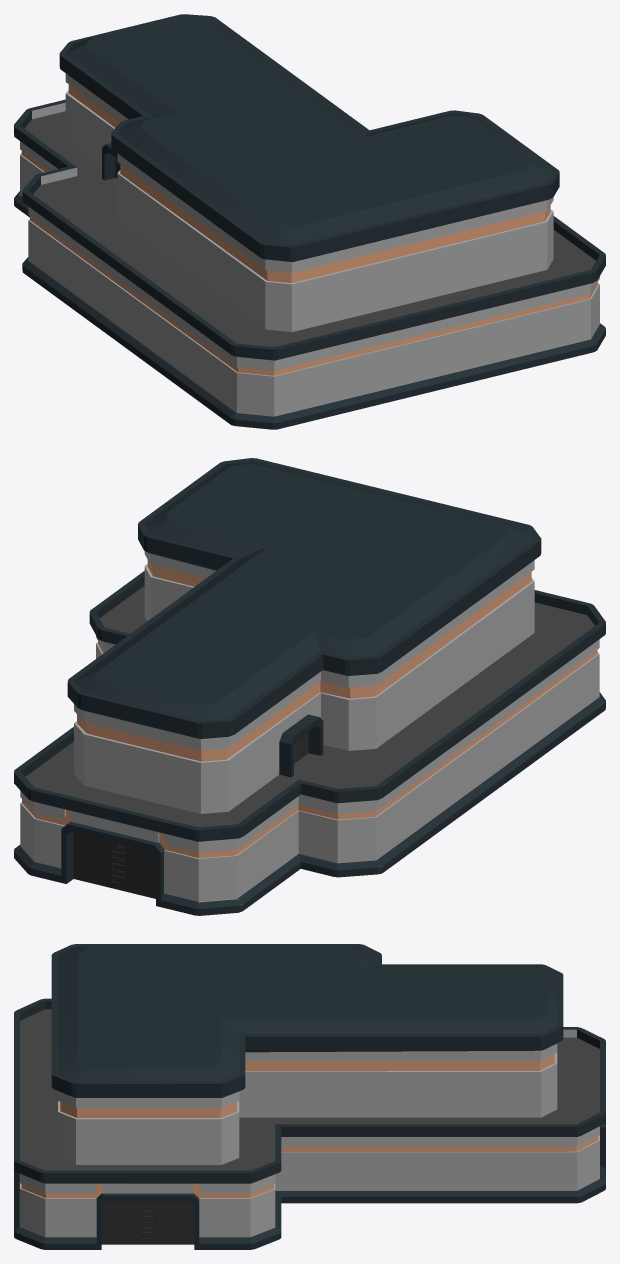
Rendered from Cafe.fbx.
3 views of the same model, one above another, from view 1: azimuth 30°, elevation 25°; view 2: azimuth 150°, elevation 25°; view 3: azimuth 270°, elevation 25° (orthographic). The views are drawn at different scales.
Visible parts, largest first — view 1: Cafe Building, Cafe Inner Mesh, Second Floor Outside, Second Floor Outside Inner Mesh; view 2: Cafe Building, Cafe Inner Mesh, Second Floor Outside, Second Floor Outside Inner Mesh, Cafe Back Door Right, Cafe Back Door Left; view 3: Cafe Building, Cafe Inner Mesh, Second Floor Outside, Second Floor Outside Inner Mesh, Cafe Main Door Left, Cafe Main Door Right.
Boxes of the visible parts, <box> form: Cafe Building: <box>14,14,605,429</box>; Cafe Inner Mesh: <box>14,74,605,429</box>; Second Floor Outside: <box>25,111,595,347</box>; Second Floor Outside Inner Mesh: <box>24,114,595,345</box>; Cafe Building: <box>14,458,605,915</box>; Cafe Inner Mesh: <box>14,552,605,915</box>; Second Floor Outside: <box>25,586,594,827</box>; Second Floor Outside Inner Mesh: <box>26,586,591,826</box>; Cafe Back Door Right: <box>73,831,124,889</box>; Cafe Back Door Left: <box>113,842,155,898</box>; Cafe Building: <box>14,944,605,1249</box>; Cafe Inner Mesh: <box>14,999,605,1249</box>; Second Floor Outside: <box>20,1009,599,1170</box>; Second Floor Outside Inner Mesh: <box>20,1010,599,1170</box>; Cafe Main Door Left: <box>101,1201,153,1244</box>; Cafe Main Door Right: <box>142,1201,194,1244</box>.
Bounding box in the file's own units: 6844 × 2910 × 9796.
